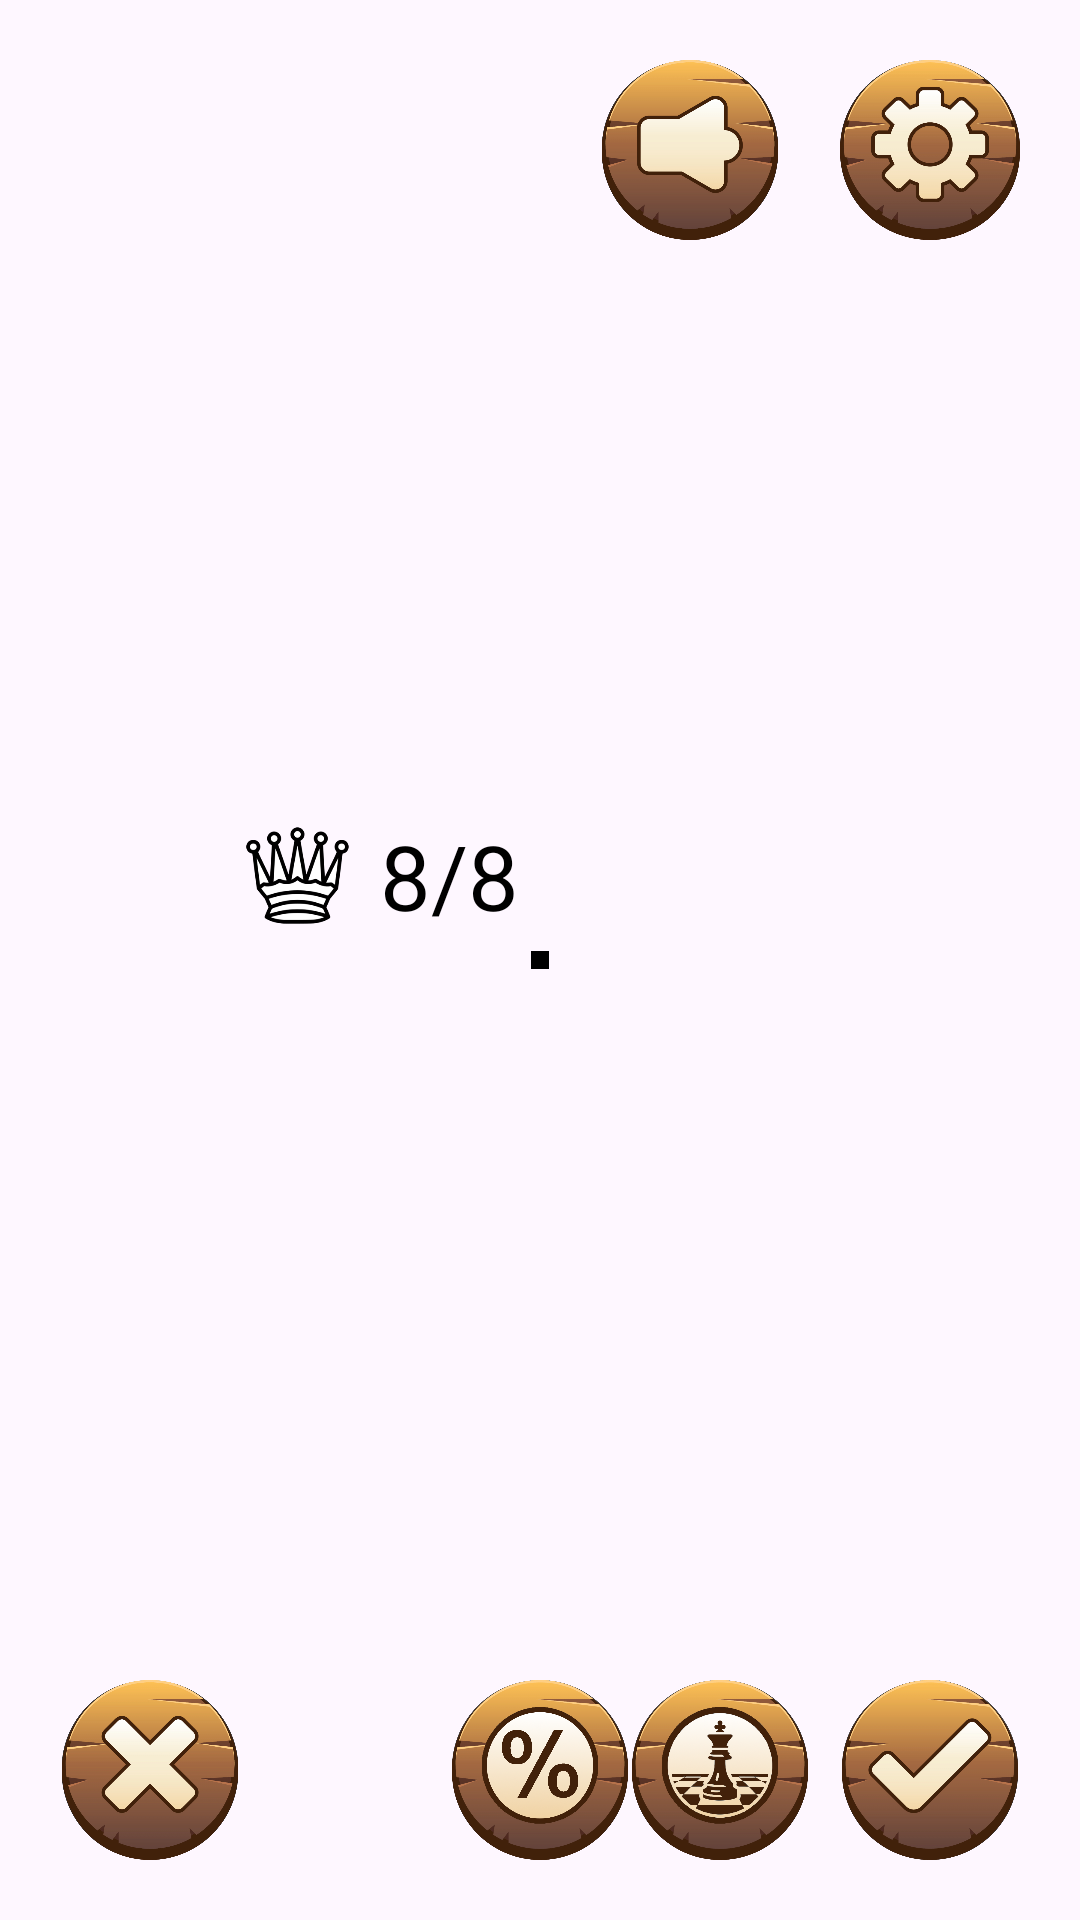

Locate icon controls on the screen. Image size 1080x1920, boxes as (x1, y1, x2, y2).
clean: (62, 1680, 238, 1860)
confirm: (842, 1680, 1018, 1860)
queen: (246, 827, 349, 924)
queen placement help: (632, 1680, 808, 1860)
settings: (840, 60, 1020, 240)
sound on: (602, 60, 778, 240)
victory percent help: (452, 1680, 628, 1860)
